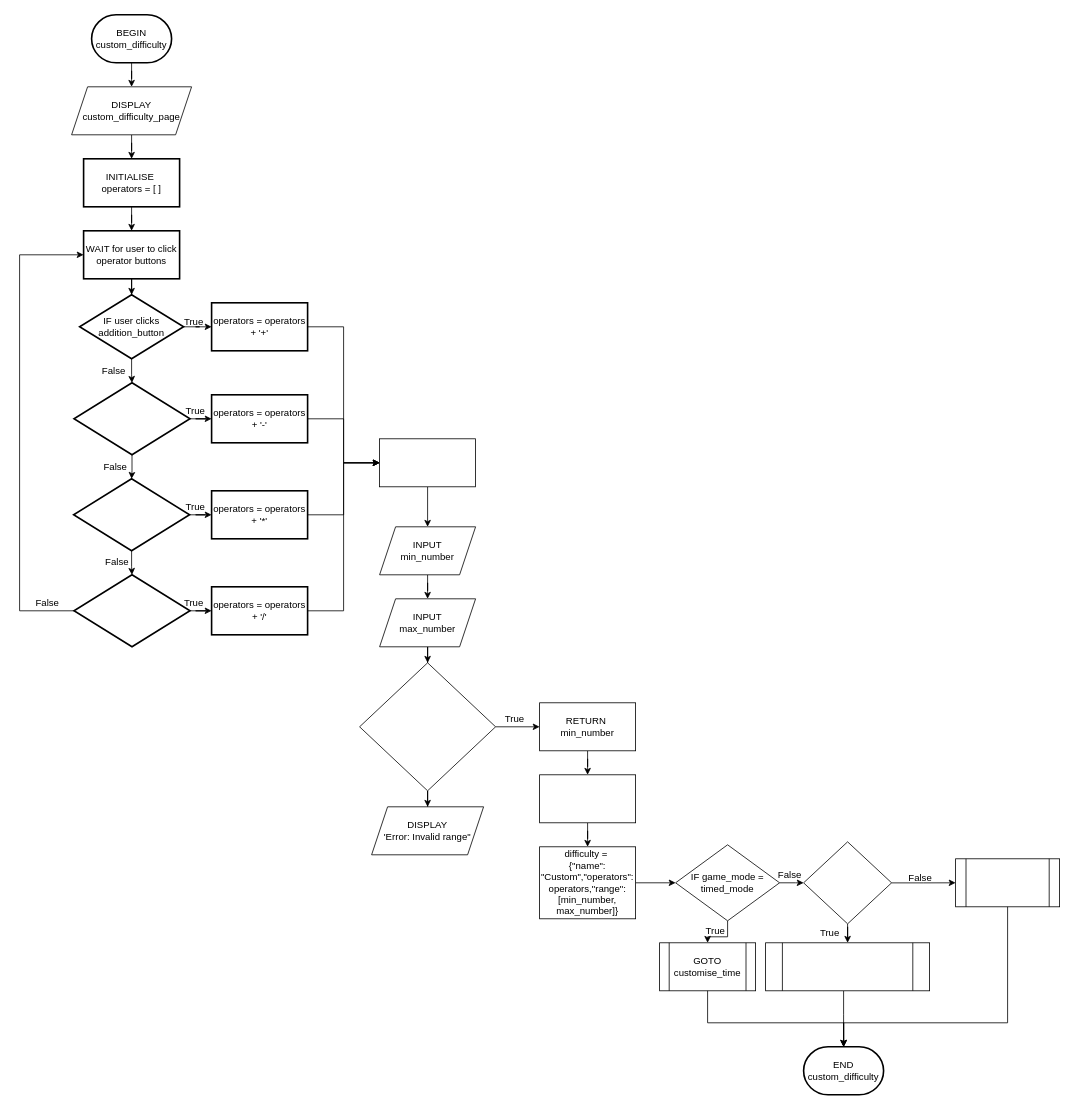
The diagram is 1074 pixels wide and 1109 high, and some of its shapes have lost their labels. The shapes that lost their labels are listed below. From the top down, each one's centre as x and y in pixels, then its label:
At point (131, 418): "ELSEIF user clicks subtraction_button".
At point (427, 462): "RETURN operators".
At point (131, 514): "ELSEIF user clicks multiplication_button".
At point (131, 610): "ELSEIF user clicks division_button".
At point (427, 726): "IF min_number AND max_number are numbers AND min_number < max_number".
At point (587, 798): "RETURN max_number".
At point (847, 882): "ELSEIF game_mode = fixed_mode".
At point (1007, 882): "GOTO customise_streak".
At point (847, 966): "GOTO customise_question_amount".
